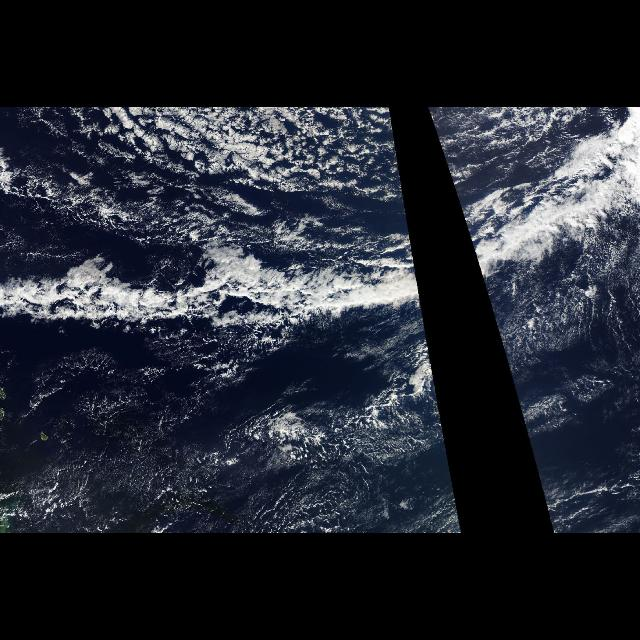Fish: (10, 135, 448, 455), (435, 135, 621, 455)
Gravel: (140, 113, 404, 211)
Sugar: (13, 326, 274, 530)
